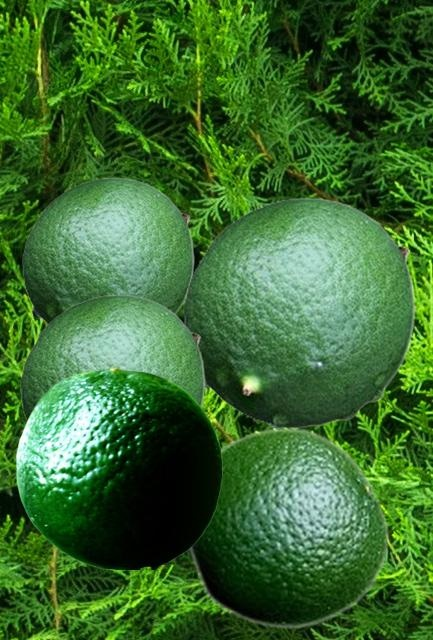calamansi: (183, 197, 414, 427), (16, 366, 221, 568), (187, 426, 389, 629), (22, 177, 193, 323), (20, 294, 204, 421)
